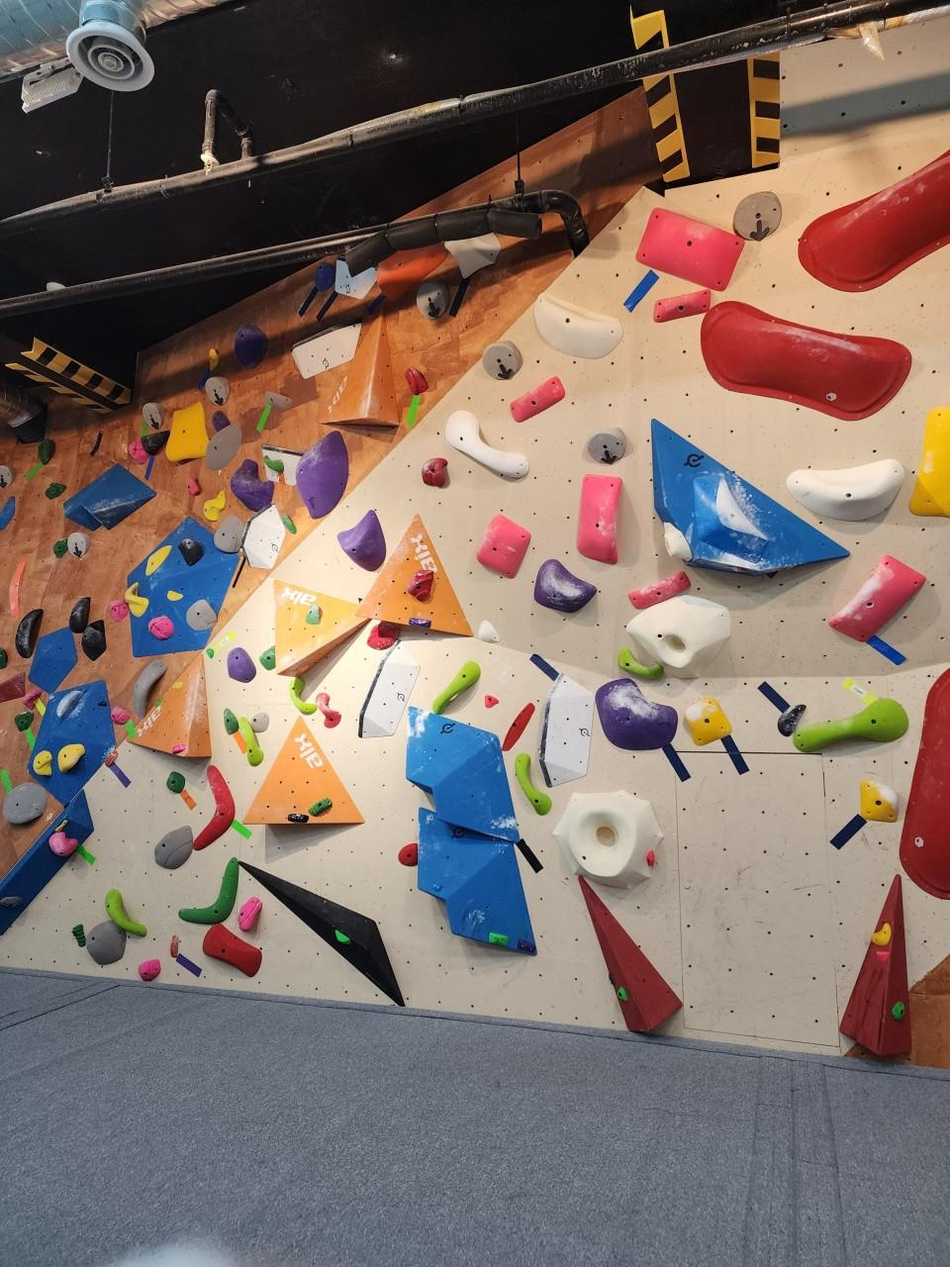hold: (702, 302, 910, 419), (798, 150, 949, 291), (900, 669, 949, 898), (554, 791, 662, 887), (625, 594, 731, 679), (636, 208, 744, 290), (827, 554, 925, 640), (787, 459, 904, 522), (539, 675, 595, 787), (794, 698, 908, 752), (358, 641, 419, 737), (595, 678, 677, 749), (533, 292, 621, 358), (445, 412, 527, 480), (296, 432, 347, 518), (909, 409, 949, 517), (178, 858, 240, 925), (577, 474, 621, 563), (377, 245, 446, 300), (193, 765, 235, 850), (476, 513, 530, 577), (533, 559, 597, 613), (203, 924, 261, 976), (337, 510, 385, 571), (242, 504, 285, 567), (431, 660, 480, 714), (165, 401, 208, 461), (628, 570, 690, 610), (445, 234, 500, 279), (511, 376, 564, 422), (732, 191, 781, 240), (515, 751, 551, 815), (684, 697, 731, 745), (231, 459, 273, 512), (132, 659, 165, 719), (105, 889, 146, 936), (85, 920, 127, 965), (654, 289, 711, 322), (5, 782, 47, 825), (155, 826, 193, 869), (502, 703, 534, 751), (336, 260, 376, 298), (482, 341, 522, 379), (234, 323, 268, 367), (618, 647, 663, 680), (207, 425, 240, 469), (861, 781, 897, 821), (587, 428, 625, 464), (16, 609, 43, 657), (238, 717, 263, 765), (9, 557, 28, 617), (663, 523, 692, 562), (418, 282, 448, 319), (215, 514, 244, 552), (289, 677, 316, 714), (186, 600, 217, 632), (515, 837, 541, 873), (82, 622, 106, 660), (367, 621, 400, 648), (317, 693, 341, 729), (408, 569, 434, 602), (778, 705, 805, 736), (204, 375, 230, 406), (124, 583, 148, 616), (58, 743, 85, 772), (48, 830, 78, 856), (56, 689, 82, 719), (68, 598, 90, 633), (0, 672, 24, 703), (238, 898, 261, 930), (141, 430, 169, 456), (146, 546, 171, 575), (422, 457, 446, 487), (177, 538, 203, 565), (204, 490, 226, 521), (142, 402, 164, 429), (315, 261, 335, 290), (66, 532, 89, 557), (406, 368, 428, 394), (148, 616, 173, 638), (0, 497, 15, 530), (128, 439, 148, 462), (165, 770, 185, 793), (308, 798, 333, 816), (266, 391, 291, 409), (139, 959, 160, 980), (478, 621, 500, 641), (109, 600, 129, 621), (22, 687, 43, 707), (872, 923, 891, 945), (34, 749, 50, 775), (38, 438, 54, 464), (399, 842, 417, 865), (264, 455, 283, 476), (211, 411, 230, 432), (306, 602, 322, 625), (15, 712, 34, 731), (260, 645, 275, 669), (45, 482, 65, 499), (252, 712, 268, 733), (225, 709, 238, 734), (112, 707, 131, 724), (72, 924, 86, 947), (0, 465, 13, 487), (52, 538, 67, 557), (281, 514, 295, 534), (517, 939, 535, 953), (188, 477, 201, 496), (0, 897, 22, 908), (209, 349, 219, 373), (335, 928, 350, 943), (892, 1002, 904, 1020), (488, 933, 507, 944), (170, 935, 179, 958), (409, 619, 431, 628), (484, 694, 498, 708), (106, 750, 118, 766), (618, 986, 628, 1002), (0, 647, 7, 669), (289, 814, 308, 822), (166, 592, 182, 601), (172, 743, 185, 754), (56, 820, 67, 832), (153, 698, 164, 707), (647, 852, 654, 865), (172, 682, 182, 689), (99, 702, 106, 706)
volume: (653, 420, 850, 575), (239, 862, 403, 1005), (418, 809, 535, 953), (580, 877, 681, 1031), (406, 707, 520, 842), (126, 518, 238, 655), (355, 514, 474, 636), (0, 790, 94, 933), (243, 718, 363, 824), (840, 875, 910, 1056), (29, 680, 115, 806), (124, 653, 211, 756), (274, 580, 367, 675), (321, 316, 399, 426), (64, 464, 154, 530), (292, 324, 361, 378), (29, 628, 76, 694)
